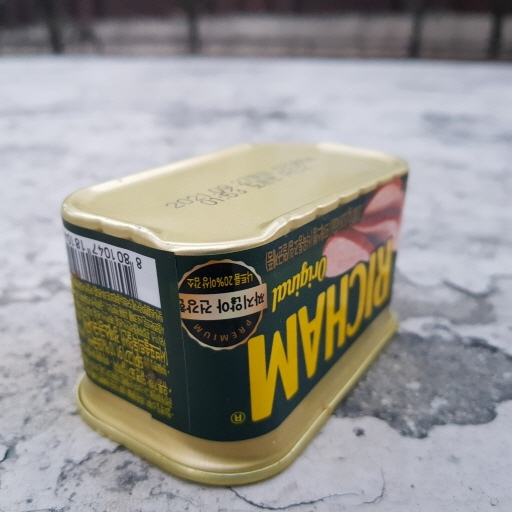Metal_2: (60, 135, 414, 488)
